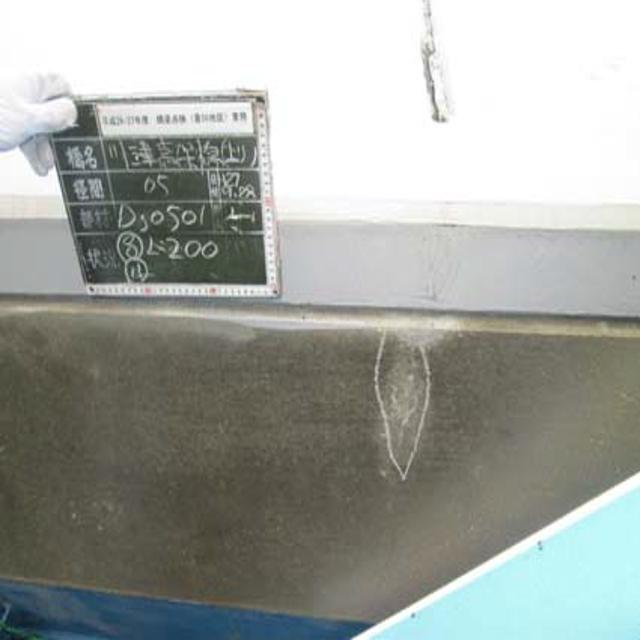freelime: (379, 343, 427, 478)
